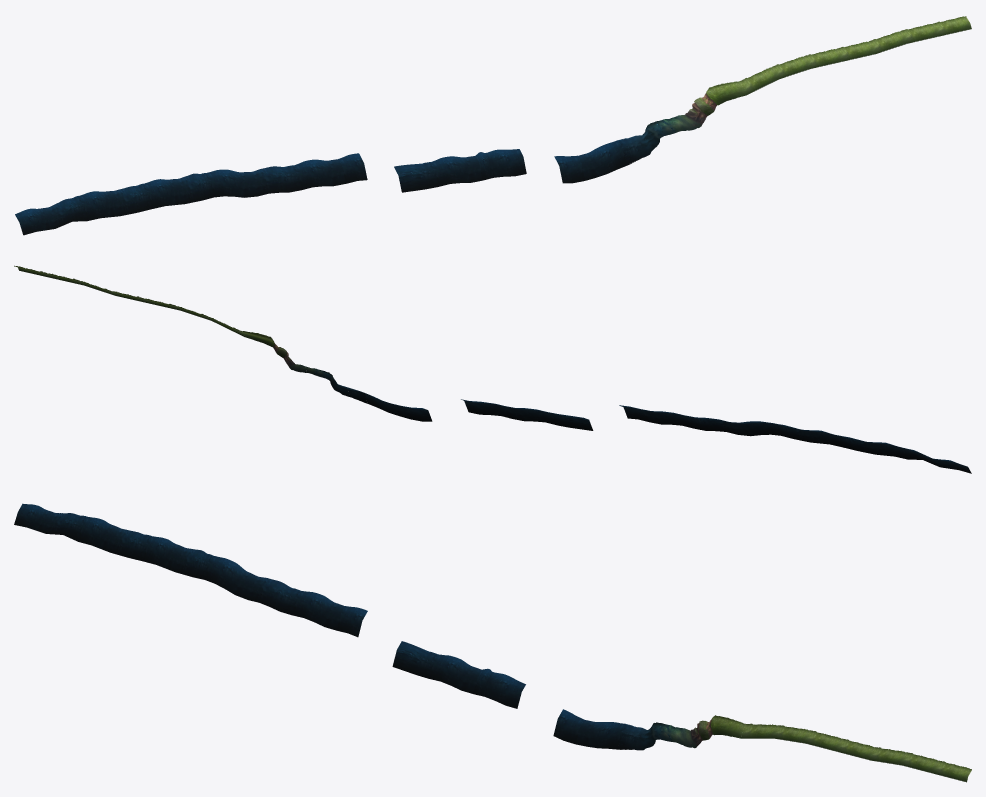
File: Dark Forest Grass Landscape Dark.FBX
3 views of the same model, one above another, from view 1: azimuth 30°, elevation 25°; view 2: azimuth 150°, elevation 25°; view 3: azimuth 330°, elevation 25° (orthographic).
Visible parts, largest first — view 1: Grass Landscape Dark Part 2, Grass Landscape End, Grass Landscape Dark Part 5, Grass Landscape Dark Part 3, Grass Landscape Dark Part 4; view 2: Grass Landscape Dark Part 2, Grass Landscape End, Grass Landscape Dark Part 5, Grass Landscape Dark Part 3, Grass Landscape Dark Part 4; view 3: Grass Landscape Dark Part 2, Grass Landscape End, Grass Landscape Dark Part 5, Grass Landscape Dark Part 3, Grass Landscape Dark Part 4.
Part boxes in pixels (x1,y1,x2,y2): Grass Landscape Dark Part 2: [15, 166, 278, 235]; Grass Landscape End: [618, 16, 971, 165]; Grass Landscape Dark Part 5: [452, 140, 627, 183]; Grass Landscape Dark Part 3: [271, 153, 367, 192]; Grass Landscape Dark Part 4: [394, 156, 459, 192]; Grass Landscape Dark Part 2: [708, 418, 971, 473]; Grass Landscape End: [14, 265, 367, 403]; Grass Landscape Dark Part 5: [365, 393, 534, 421]; Grass Landscape Dark Part 3: [619, 405, 715, 431]; Grass Landscape Dark Part 4: [526, 408, 593, 430]; Grass Landscape Dark Part 2: [14, 503, 278, 606]; Grass Landscape End: [618, 715, 971, 782]; Grass Landscape Dark Part 5: [451, 659, 625, 749]; Grass Landscape Dark Part 3: [270, 581, 367, 637]; Grass Landscape Dark Part 4: [392, 641, 460, 685].
Size of the model in its own units: 27445 by 469 by 2813.
